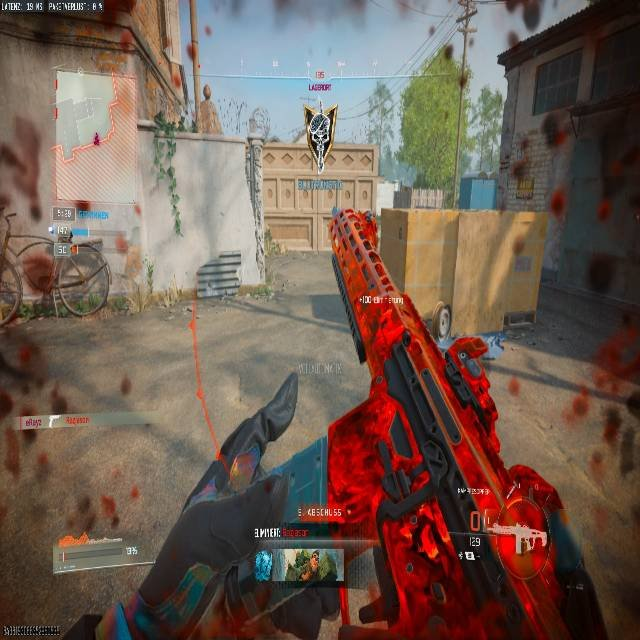player: (305, 108, 337, 168)
